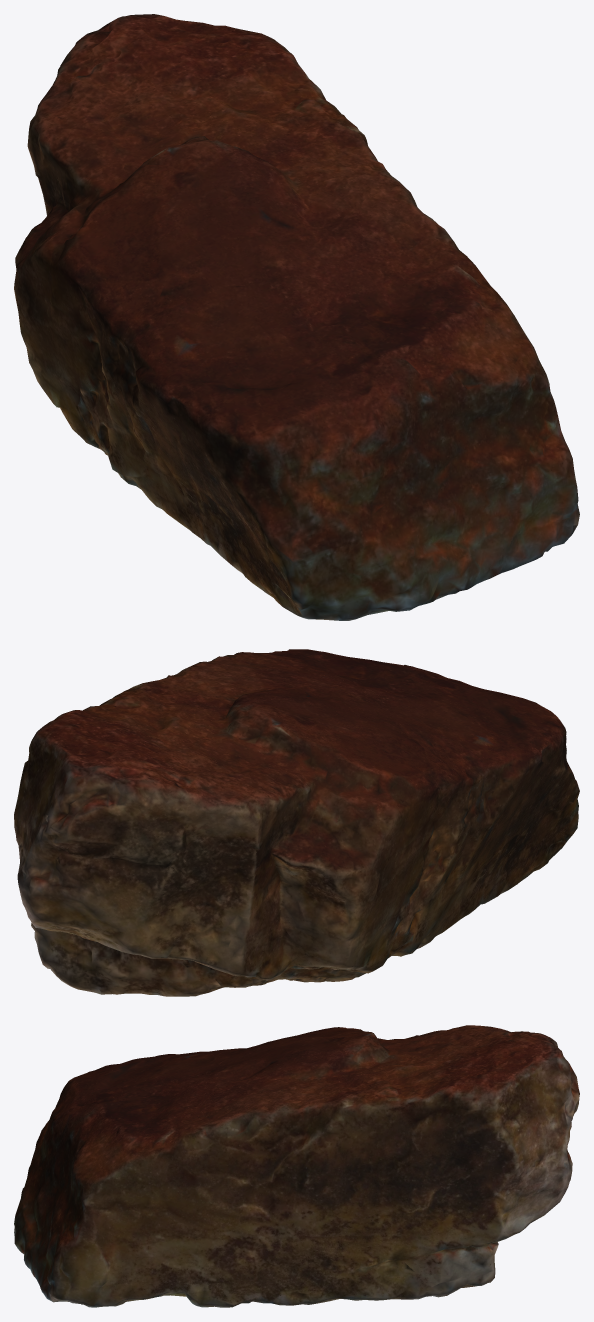
The model's file is rock_07.glb.
3 views of the same model, one above another, from view 1: azimuth 30°, elevation 25°; view 2: azimuth 150°, elevation 25°; view 3: azimuth 270°, elevation 25° (orthographic). The views are drawn at different scales.
Visible parts, largest first — view 1: rock_07; view 2: rock_07; view 3: rock_07.
Boxes of the visible parts, x1,y1,x2,y2 form: rock_07: (14, 14, 579, 620); rock_07: (14, 649, 579, 996); rock_07: (14, 1025, 579, 1307).
Bounding box in the file's own units: 0.1689 × 0.1437 × 0.3203.
1 material, 1 textured.
